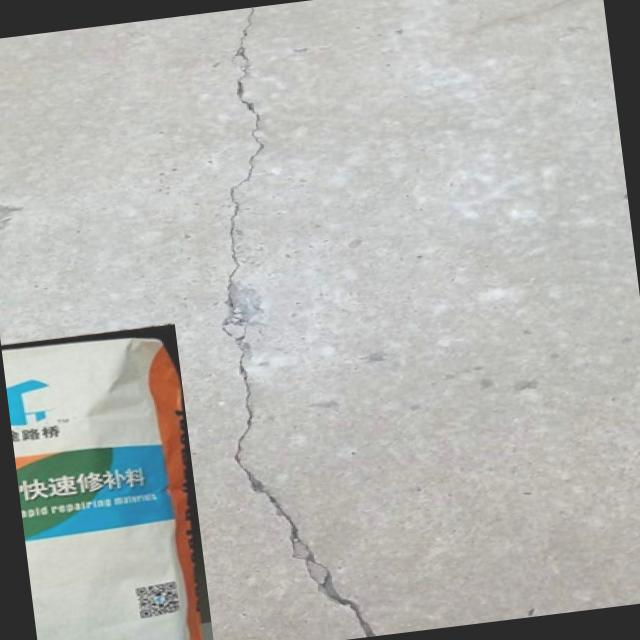crack: (180, 0, 383, 640)
